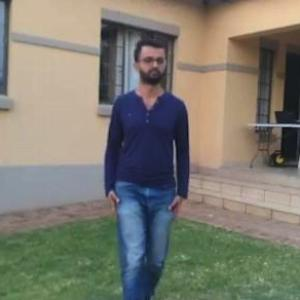follow: (103, 30, 192, 298)
